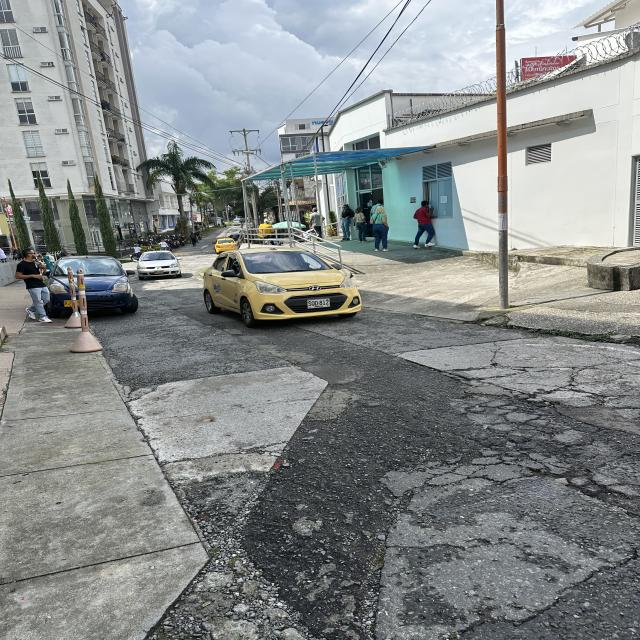number plate: (306, 298, 330, 309)
